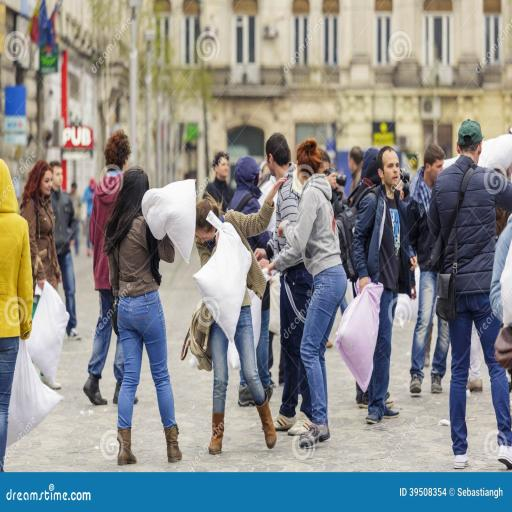fight: (146, 160, 325, 430)
